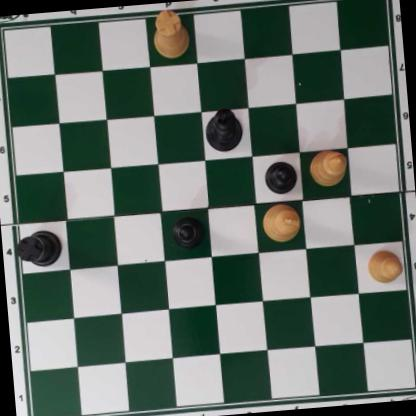black-king: (201, 107, 245, 152)
black-pawn: (263, 158, 298, 195), (172, 214, 204, 250)
black-rook: (16, 228, 64, 270)
white-bishop: (308, 149, 350, 188)
white-king: (262, 201, 301, 243)
white-pawn: (365, 246, 404, 285)
white-rook: (150, 8, 192, 58)
